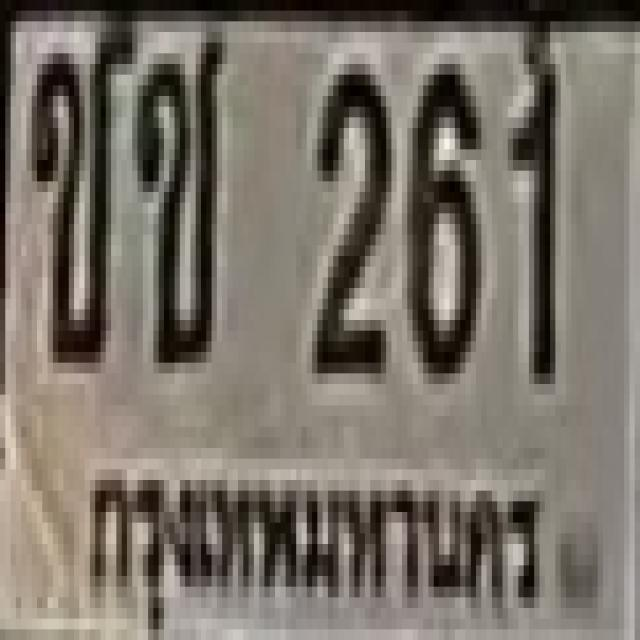1: (508, 54, 555, 374)
2: (312, 53, 386, 363)
6: (402, 53, 476, 363)
A10: (29, 16, 130, 357), (132, 27, 222, 357)
BKK: (84, 452, 553, 619)
